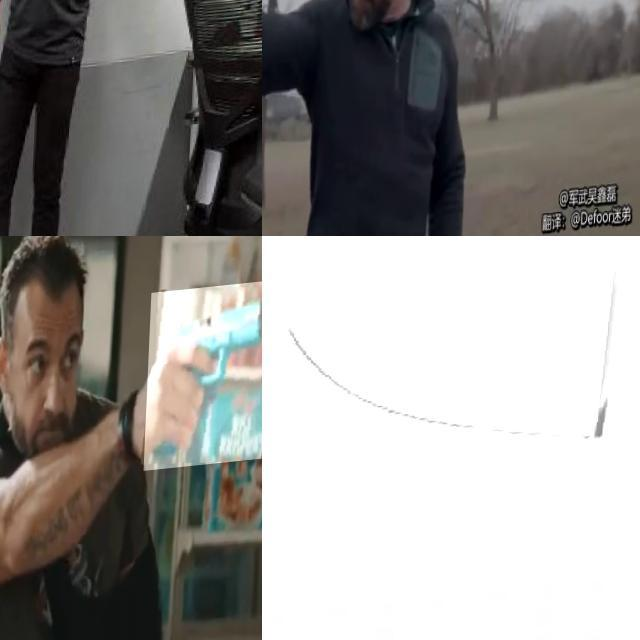-: (262, 236, 640, 609), (122, 0, 149, 35)
gun-knife-thesis - v11 Yolov5 augmented: (146, 289, 262, 477), (262, 0, 327, 116)
